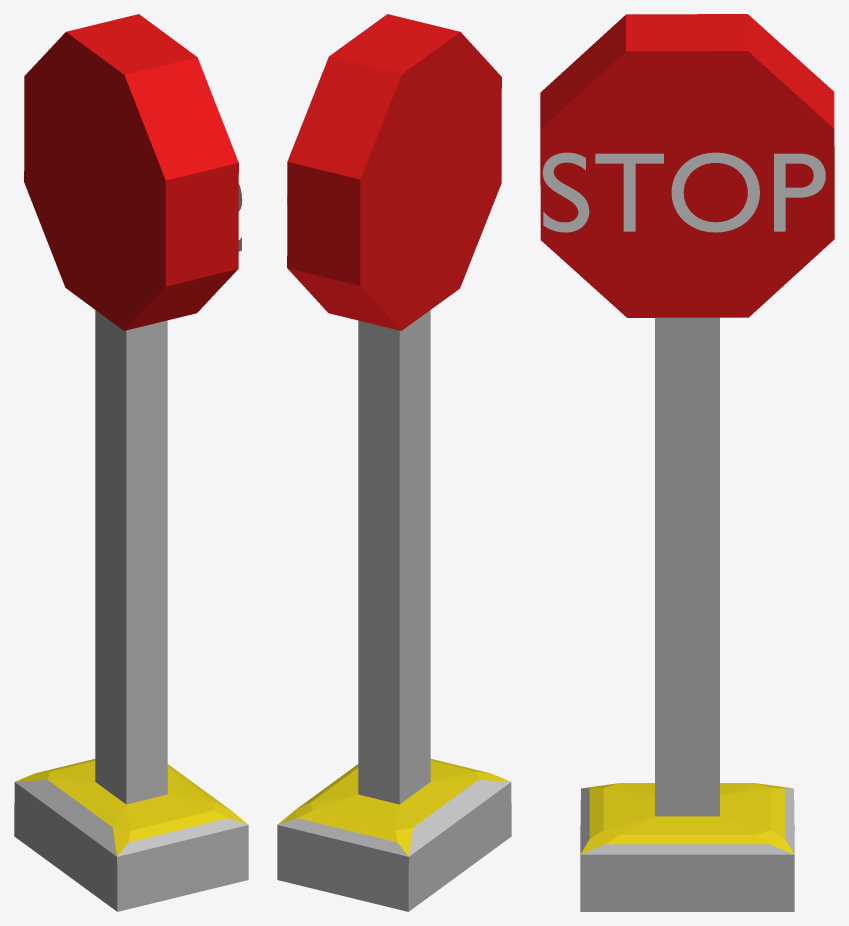
The model's file is stopSign.fbx.
3 renders of one model, left to right at view 1: azimuth 30°, elevation 25°; view 2: azimuth 150°, elevation 25°; view 3: azimuth 270°, elevation 25°, orthographic. The views are drawn at different scales.
Visible parts, largest first — view 1: Cube; view 2: Cube; view 3: Cube, Text.
Boxes of the visible parts, <box> form: Cube: <box>14,14,248,911</box>; Cube: <box>277,14,511,911</box>; Cube: <box>540,14,834,911</box>; Text: <box>542,152,825,232</box>.
Bounding box in the file's own units: 49.5 × 293 × 92.53.
